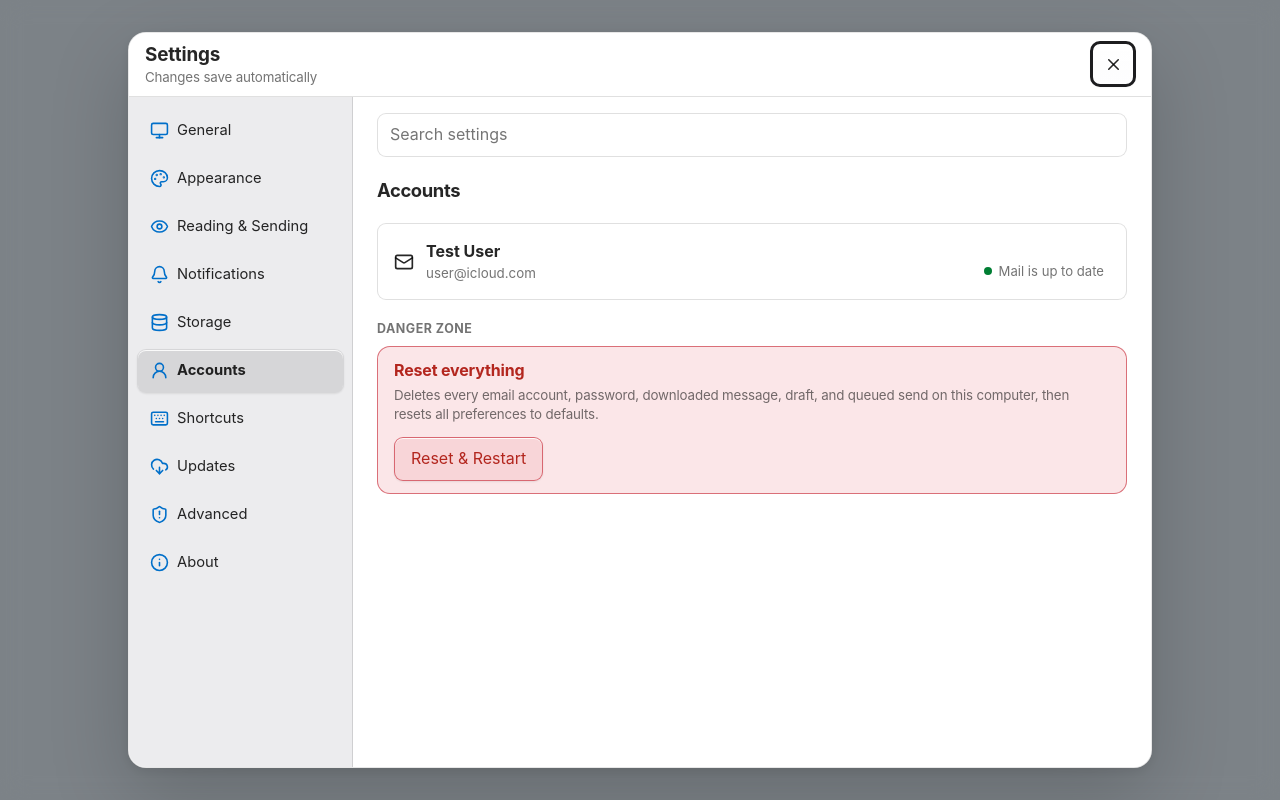
Scenario: SettingsDialog component › renders alias header title, help, and detect action together
Click the button with aria-label "Manage Test User".
click(463, 251)  # box [377,223,1127,300]
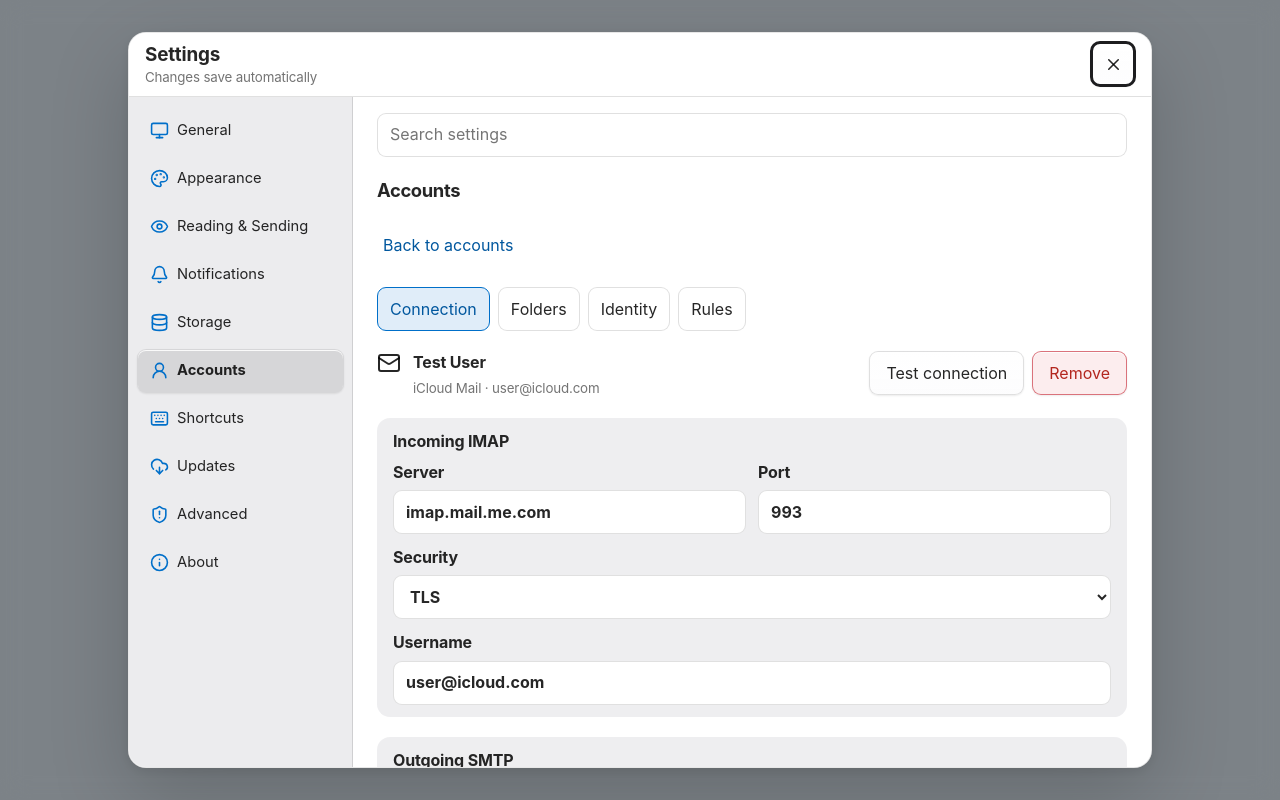
Click the button "Identity".
click(629, 309)  # box [588,287,670,331]
(page scrolled)
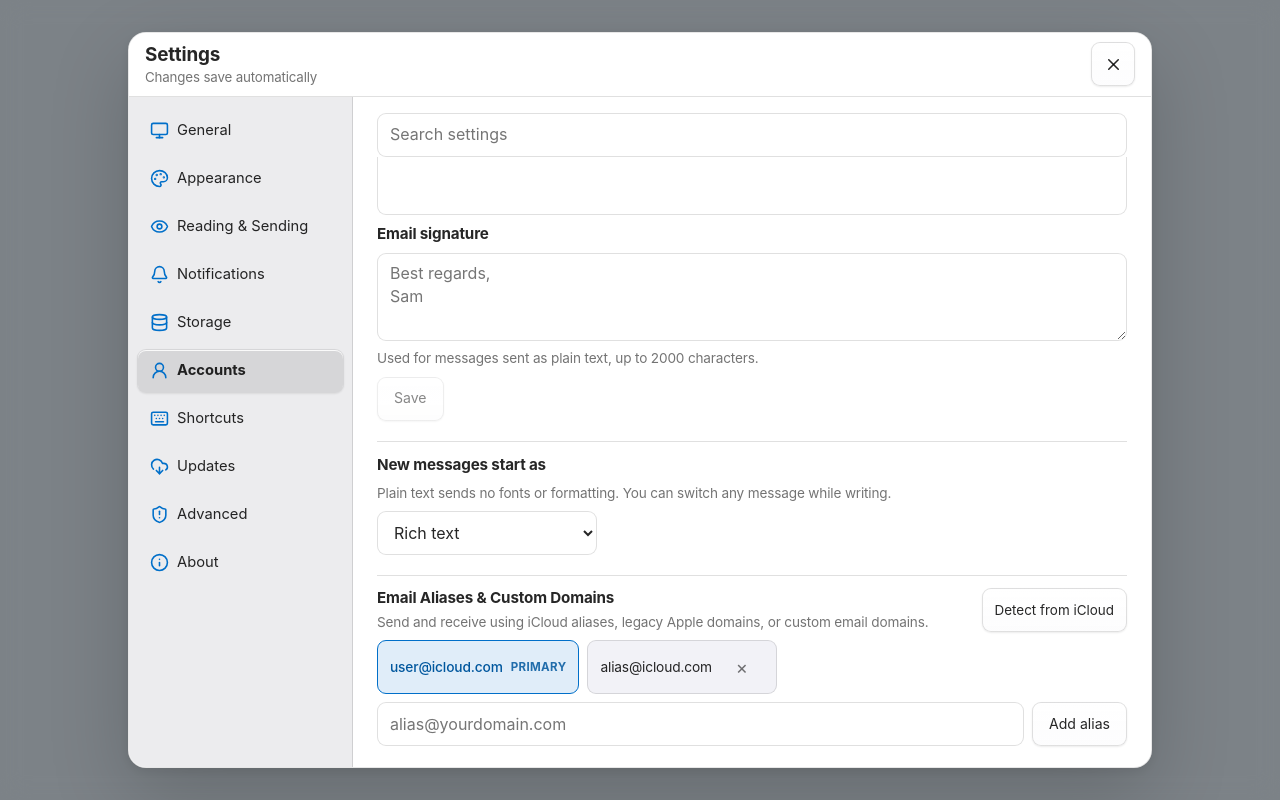
Expected: the text "Email Aliases & Custom Domains" is shown, [377,588,614,607]
Expected: the text "Send and receive using iCloud aliases" is shown, [377,614,928,630]
Expected: the button "Detect from iCloud" is shown, [982,588,1127,632]
